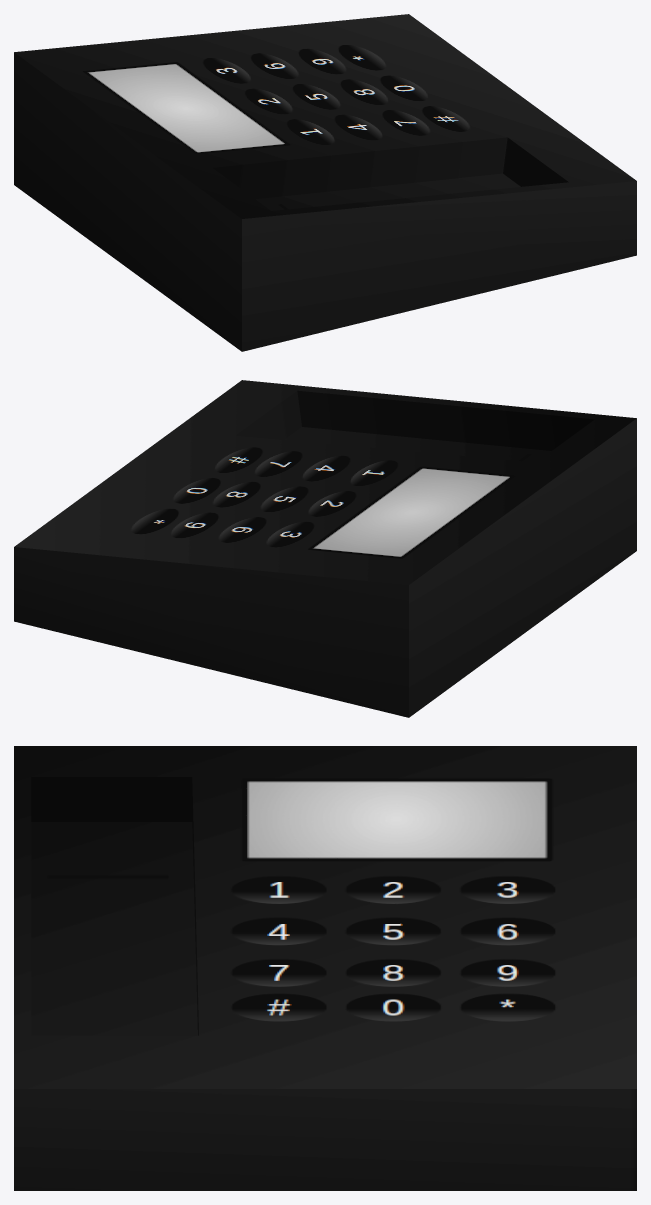
File: telefono2.obj
3 views of the same model, one above another, from view 1: azimuth 30°, elevation 25°; view 2: azimuth 150°, elevation 25°; view 3: azimuth 270°, elevation 25° (orthographic). The views are drawn at different scales.
Parts seen in each view (by area): view 1: Telefono2; view 2: Telefono2; view 3: Telefono2.
Boxes of the visible parts, x1,y1,x2,y2 form: Telefono2: [14, 14, 636, 351]; Telefono2: [14, 380, 636, 717]; Telefono2: [14, 746, 636, 1190].
Bounding box in the file's own units: 2 × 0.6426 × 2.
